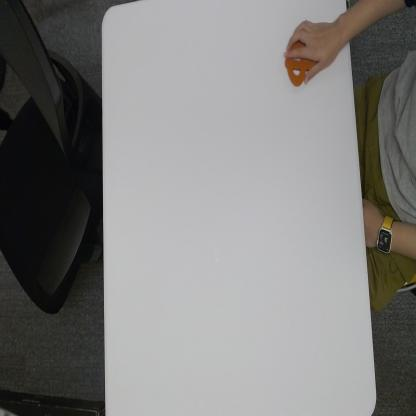Hand: (284, 18, 341, 85)
Pretzel: (284, 41, 316, 88)
